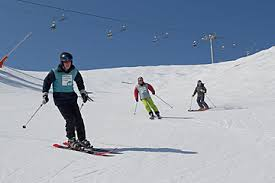skier: (22, 42, 119, 157), (131, 74, 174, 119), (187, 80, 217, 112)
